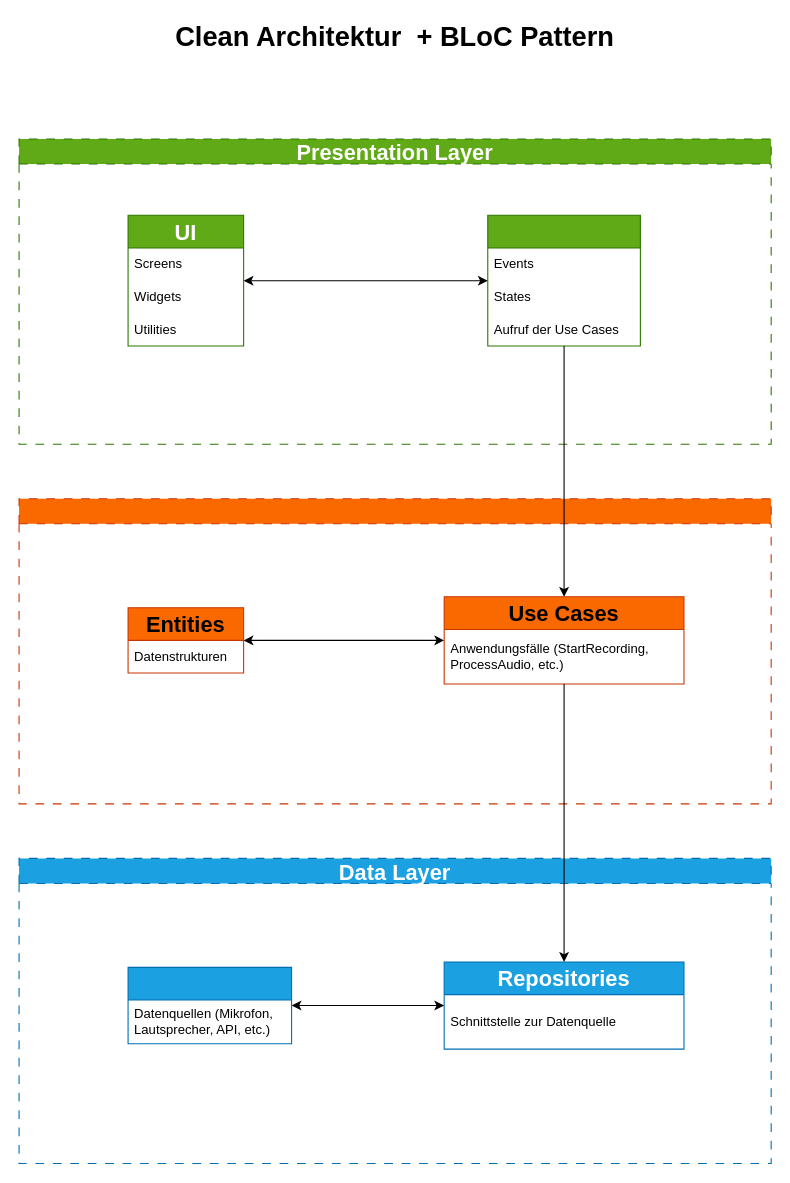
This 790x1183 diagram has some shape labels left out. The shapes that lost their labels are listed below. From the top down, each one's box as (x1, y1, x2, y2) in pixels, then its label:
(487, 214, 640, 346): BLoC
(18, 498, 771, 804): Domain Layer
(127, 966, 292, 1044): Data Sources
